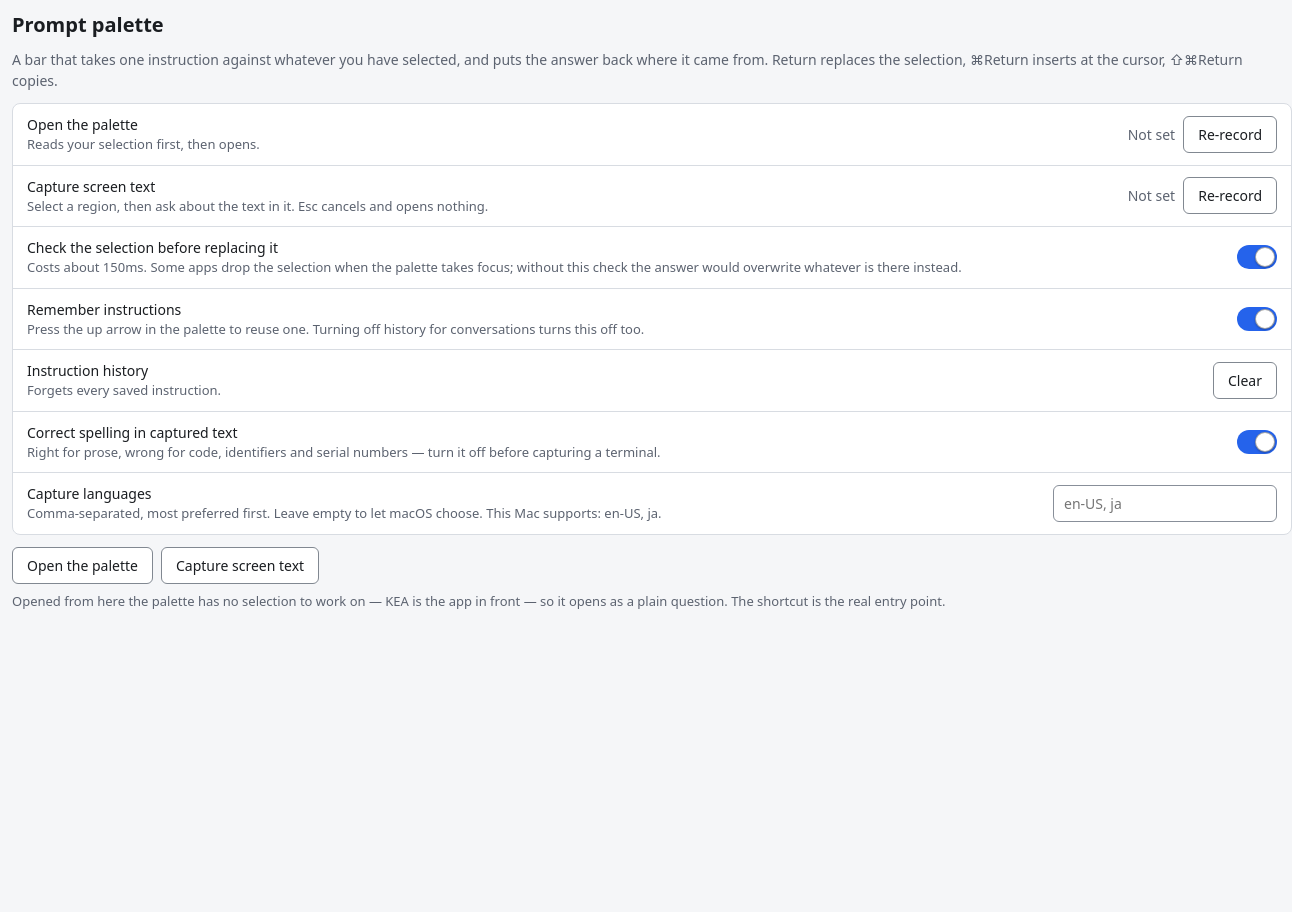
Scenario: PaletteSettings › clears the instruction history and says so
The width and height of the screenshot is (1292, 912).
Click the button "Clear": (1245, 380) left=1213, top=362, right=1277, bottom=399
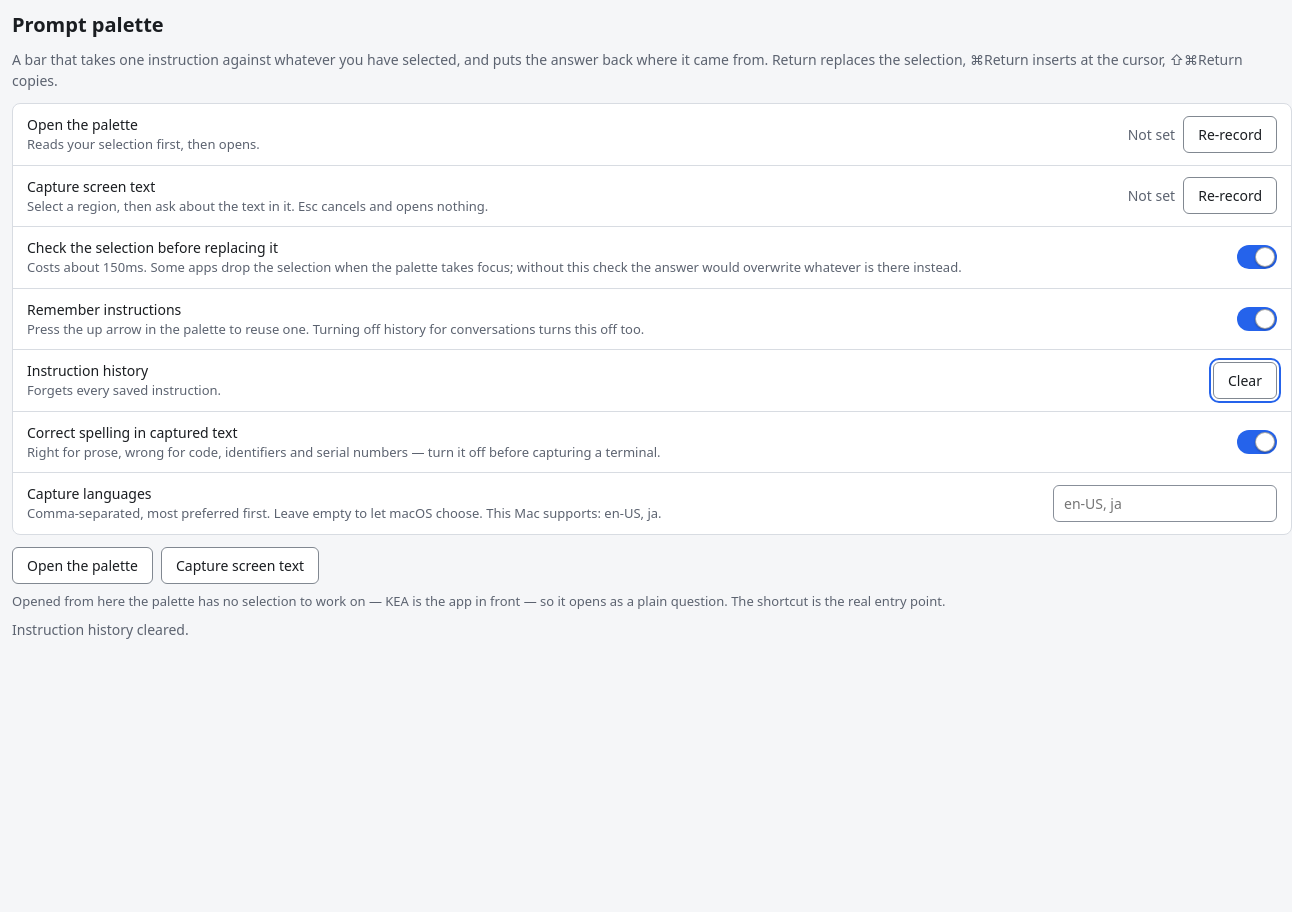
Expected: the text "Instruction history cleared." is shown, left=12, top=620, right=189, bottom=639
